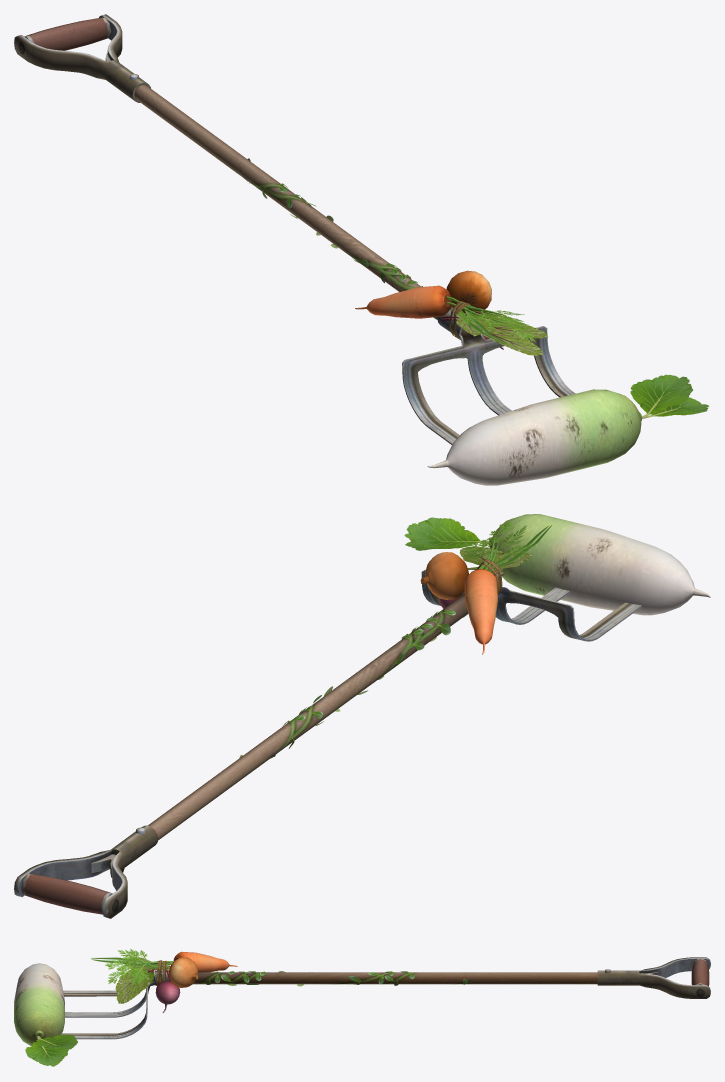
The model's file is Harvest_Pitchfork.glb.
The picture shows the model from 3 angles, top to bottom: view 1: azimuth 30°, elevation 25°; view 2: azimuth 150°, elevation 25°; view 3: azimuth 270°, elevation 25°; orthographic projection. The views are drawn at different scales.
Visible parts, largest first — view 1: Harvest_Pitchfork_LOD0; view 2: Harvest_Pitchfork_LOD0; view 3: Harvest_Pitchfork_LOD0.
Part boxes in pixels (box(x1,y1,x2,y2)): Harvest_Pitchfork_LOD0: box(14, 14, 709, 485); Harvest_Pitchfork_LOD0: box(14, 514, 710, 918); Harvest_Pitchfork_LOD0: box(14, 949, 710, 1066).
Size of the model in its own units: 0.00449 by 0.00176 by 0.0141.
2 materials, 2 textured.
